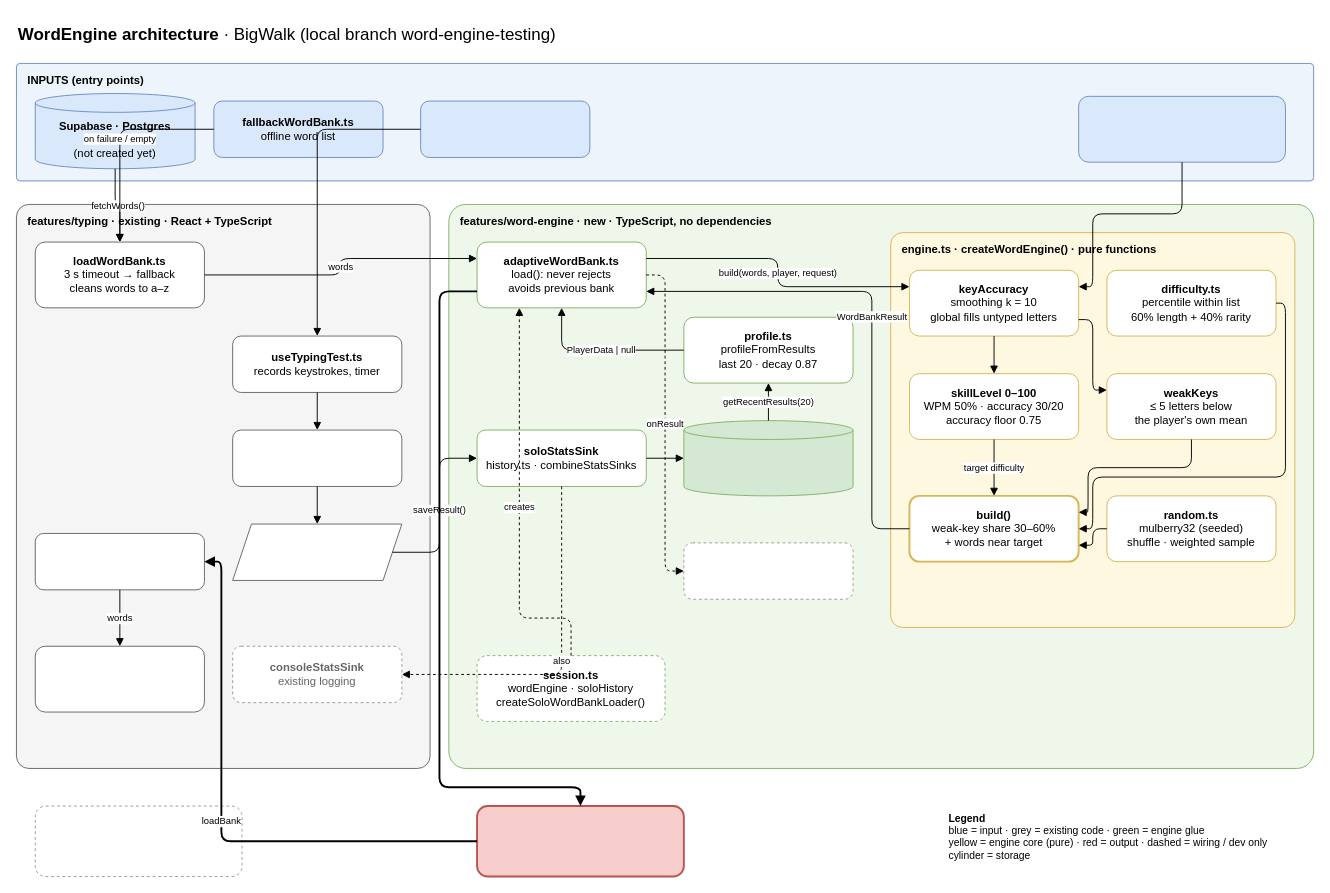
Some shapes in this 1330 by 893 pixel diagram are drawn without their labels. The centre of each missing label's shape, as x and y in pixels:
"Board.ts createBoard(bank) repeats bank over 200 slots" belongs at point (119, 678).
"computeStats.ts WPM · accuracy · perKey" belongs at point (317, 457).
"DEFAULT_GLOBAL_KEYS config.ts · placeholder app-wide key accuracy" belongs at point (1181, 128).
"Game.tsx (screen) wires TypingTest to createSoloWordBankLoader + soloStatsSink" belongs at point (138, 841).
"OUTPUT: word bank 20 words (adjustable) { words, source }" belongs at point (580, 841).
"Player keystrokes keydown events (React)" belongs at point (505, 128).
"soloHistory browser localStorage last 50 results" belongs at point (768, 458).
"TestResult wpm · accuracy · perKey" belongs at point (317, 551).
"TypingTest.tsx props: loadBank, statsSink" belongs at point (119, 561).
"WordEngineDebugPanel.tsx dev builds only" belongs at point (768, 570).
